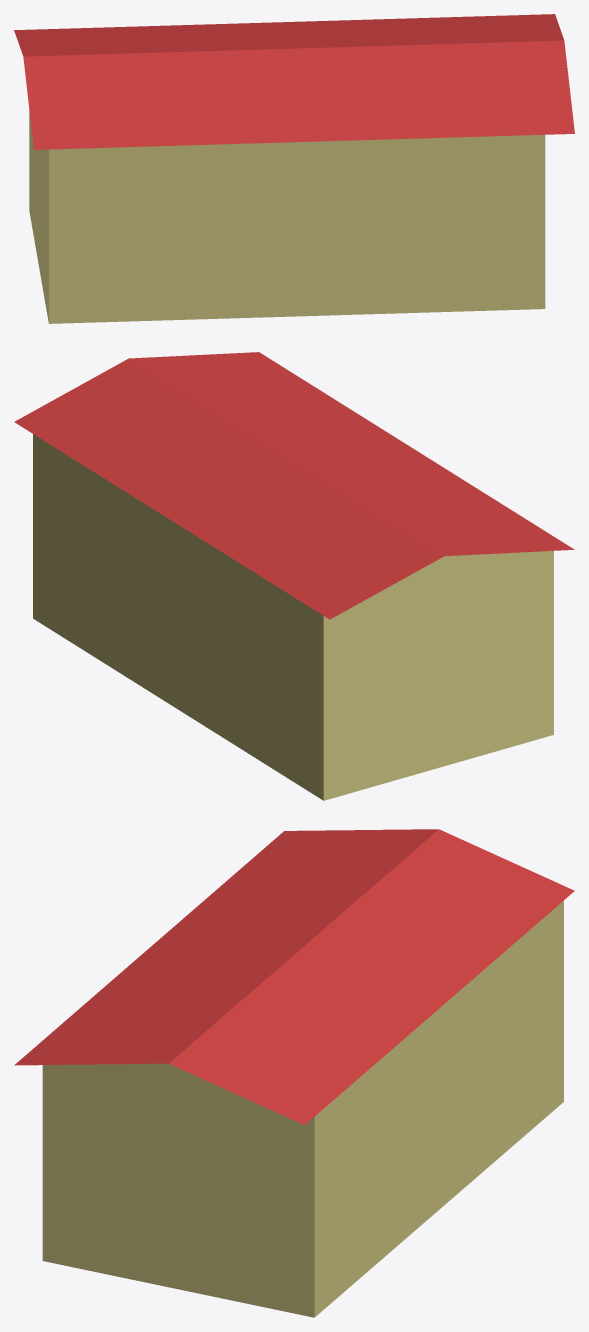
3 renders of one model, top to bottom at view 1: azimuth 30°, elevation 25°; view 2: azimuth 150°, elevation 25°; view 3: azimuth 270°, elevation 25°, orthographic. The views are drawn at different scales.
Bounding box in the file's own units: 22.23 × 17.91 × 8.41.
